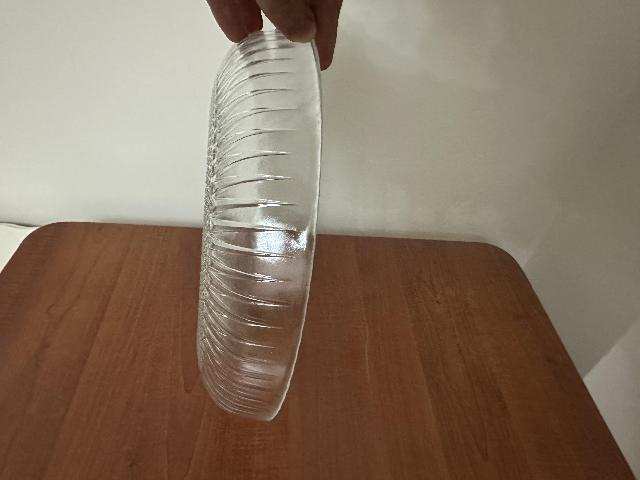Cam: (189, 32, 324, 424)
